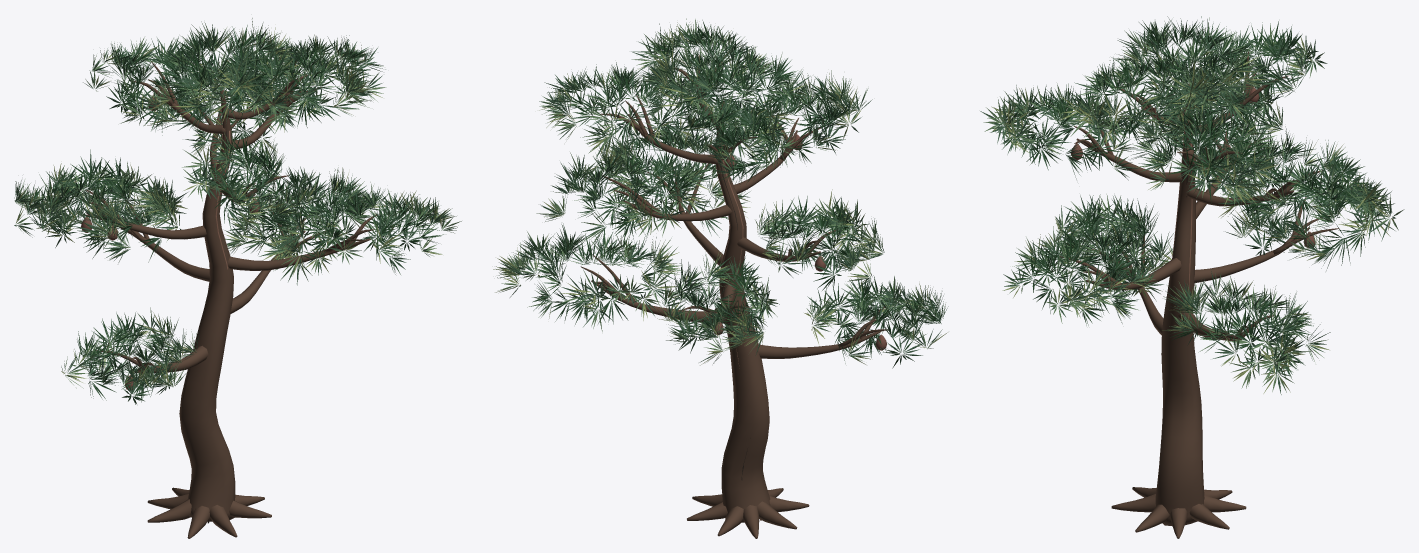
Rendered from chinese_pine.glb.
3 renders of one model, left to right at view 1: azimuth 30°, elevation 25°; view 2: azimuth 150°, elevation 25°; view 3: azimuth 270°, elevation 25°, orthographic. The views are drawn at different scales.
Parts seen in each view (by area): view 1: chinese_pine; view 2: chinese_pine; view 3: chinese_pine.
Boxes of the visible parts, left/top/right/bottom form: chinese_pine: left=14, top=18, right=461, bottom=538; chinese_pine: left=493, top=18, right=948, bottom=538; chinese_pine: left=980, top=16, right=1404, bottom=538.
Bounding box in the file's own units: 5.02 × 5.86 × 4.56.
Materials: 1 (1 with a texture image).
